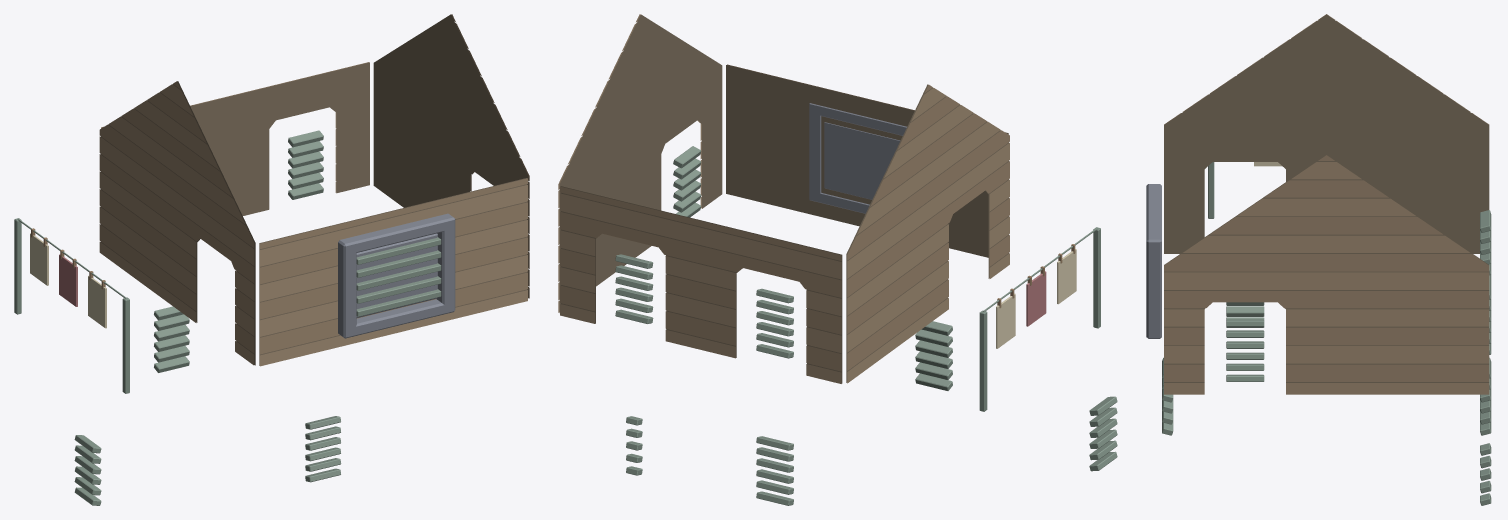
File: retained-house-o-details.glb
3 views of the same model, side by side, from view 1: azimuth 30°, elevation 25°; view 2: azimuth 150°, elevation 25°; view 3: azimuth 270°, elevation 25° (orthographic). The views are drawn at different scales.
Visible parts, largest first — view 1: retained-house-o-details; view 2: retained-house-o-details; view 3: retained-house-o-details.
Boxes of the visible parts, box(x1,y1,x2,y2) form: retained-house-o-details: box(14, 14, 529, 505); retained-house-o-details: box(558, 14, 1117, 505); retained-house-o-details: box(1146, 14, 1491, 505).
Size of the model in its own units: 6.08 by 5.22 by 4.27.
